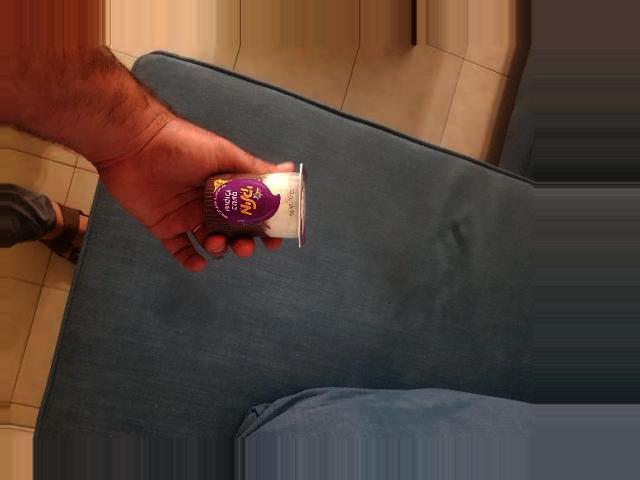milky: (259, 260, 341, 397)
